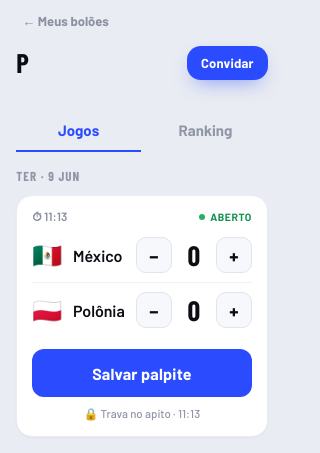
it: PoolPage › share: shows Convidar button once joinCode resolves, copies link on click
This screenshot has width=320, height=453.
Click the button "Convidar" at point(227, 63), box [187,46,268,80]
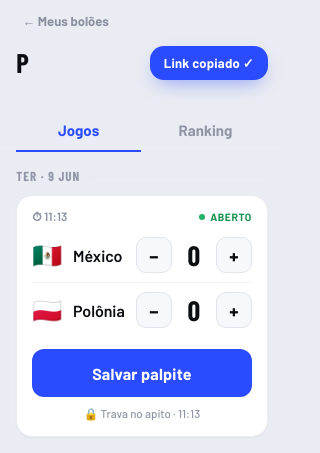
Check: the button "Link copiado ✓" is shown, box [150,46,268,80]
